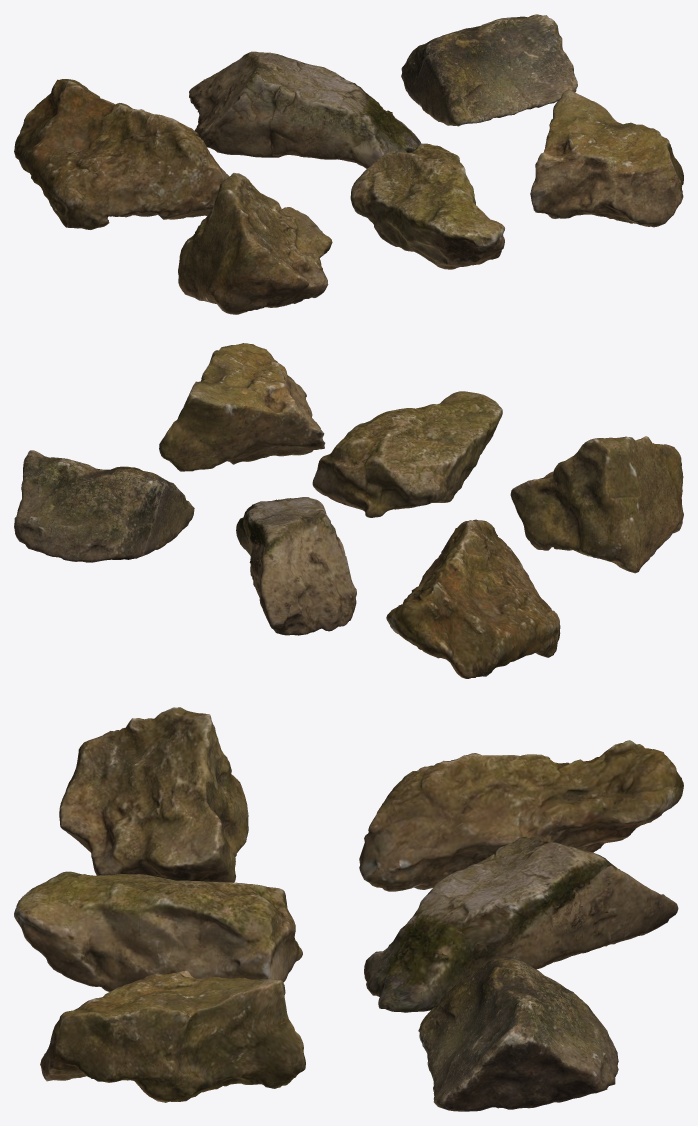
The model's file is rock_moss_set_01.gltf.
3 views of the same model, one above another, from view 1: azimuth 30°, elevation 25°; view 2: azimuth 150°, elevation 25°; view 3: azimuth 270°, elevation 25° (orthographic). The views are drawn at different scales.
Parts seen in each view (by area): view 1: rock_moss_set_01_rock01, rock_moss_set_01_rock02, rock_moss_set_01_rock06, rock_moss_set_01_rock04, rock_moss_set_01_rock03, rock_moss_set_01_rock05; view 2: rock_moss_set_01_rock04, rock_moss_set_01_rock01, rock_moss_set_01_rock05, rock_moss_set_01_rock03, rock_moss_set_01_rock06, rock_moss_set_01_rock02; view 3: rock_moss_set_01_rock01, rock_moss_set_01_rock02, rock_moss_set_01_rock05, rock_moss_set_01_rock04, rock_moss_set_01_rock06, rock_moss_set_01_rock03.
Boxes of the visible parts, x1,y1,x2,y2 form: rock_moss_set_01_rock01: (14,79,229,229); rock_moss_set_01_rock02: (189,51,421,168); rock_moss_set_01_rock06: (530,89,683,227); rock_moss_set_01_rock04: (178,173,332,314); rock_moss_set_01_rock03: (401,14,577,126); rock_moss_set_01_rock05: (350,143,504,269); rock_moss_set_01_rock04: (510,436,683,573); rock_moss_set_01_rock01: (386,519,560,678); rock_moss_set_01_rock05: (312,391,502,517); rock_moss_set_01_rock03: (14,450,194,562); rock_moss_set_01_rock06: (159,343,325,471); rock_moss_set_01_rock02: (236,497,356,635); rock_moss_set_01_rock01: (359,740,683,891); rock_moss_set_01_rock02: (364,836,678,1012); rock_moss_set_01_rock05: (14,871,302,991); rock_moss_set_01_rock04: (59,707,248,882); rock_moss_set_01_rock06: (40,970,305,1102); rock_moss_set_01_rock03: (418,956,618,1111).
Size of the model in its own units: 8 by 1.77 by 6.95.
1 material, 1 textured.
